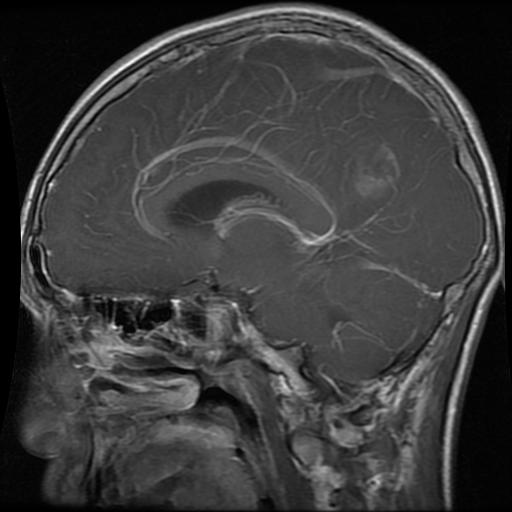Gliomia_tumour: (353, 139, 402, 195)
